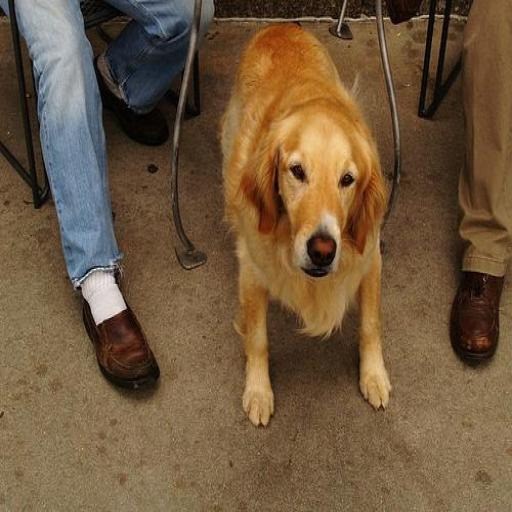dog_face: (252, 102, 382, 284)
